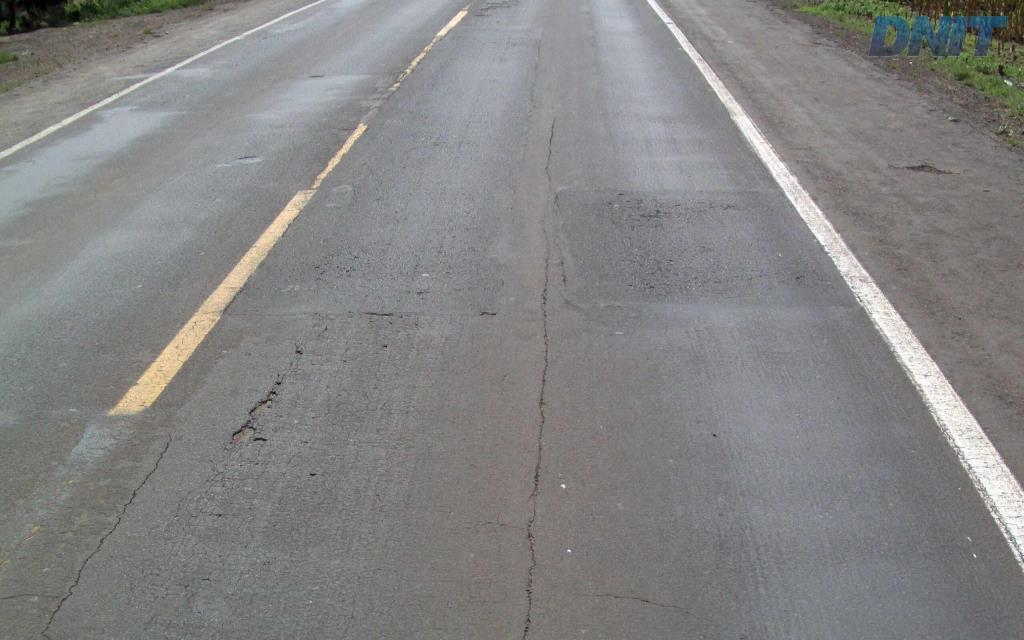crack: (221, 372, 285, 454), (527, 320, 548, 501), (518, 501, 537, 639)
pothole: (227, 419, 272, 452), (242, 388, 277, 418)
